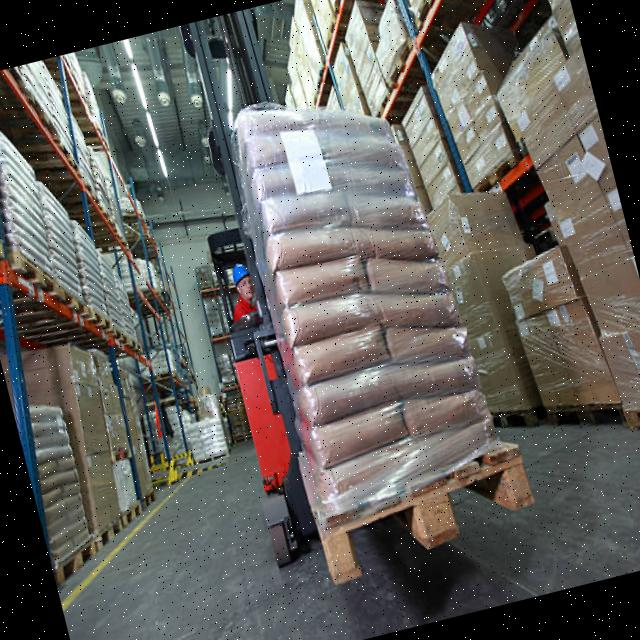Wooden-Pallets: (309, 436, 542, 592)
